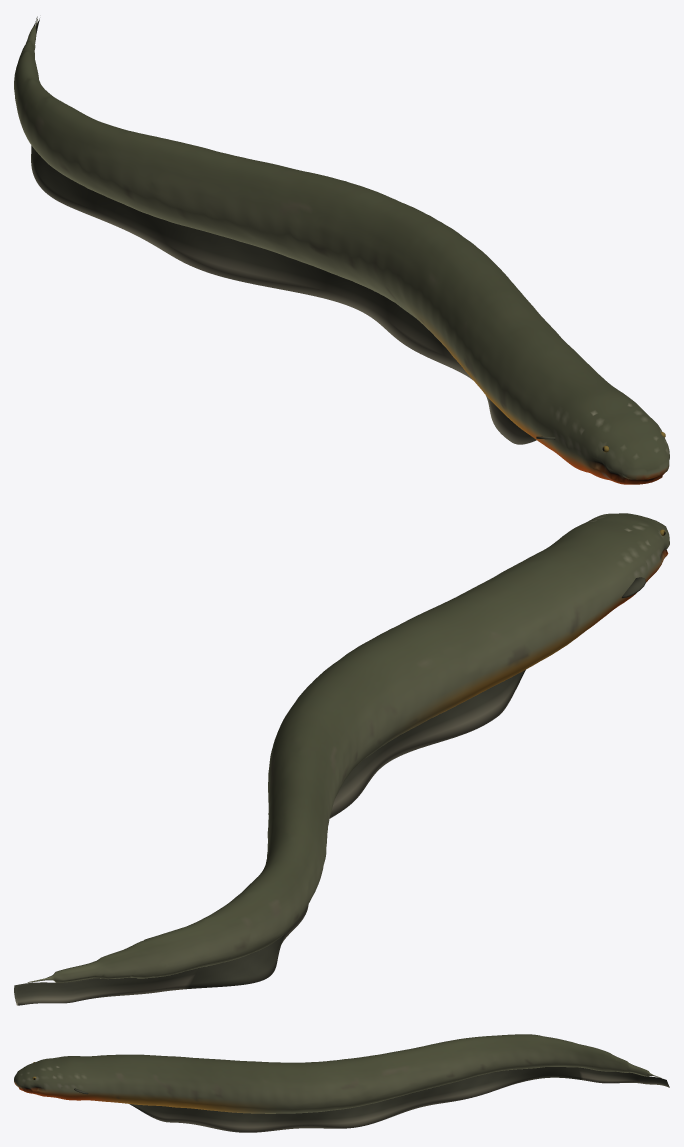
The model's file is ElectricEel.fbx.
The picture shows the model from 3 angles, top to bottom: view 1: azimuth 30°, elevation 25°; view 2: azimuth 150°, elevation 25°; view 3: azimuth 270°, elevation 25°; orthographic projection. The views are drawn at different scales.
Visible parts, largest first — view 1: ElectricEel; view 2: ElectricEel; view 3: ElectricEel.
Part boxes in pixels (x1,y1,x2,y2): ElectricEel: (14, 16, 669, 484); ElectricEel: (14, 513, 669, 1005); ElectricEel: (14, 1034, 669, 1132).
Size of the model in its own units: 0.372 by 0.2288 by 2.02.
